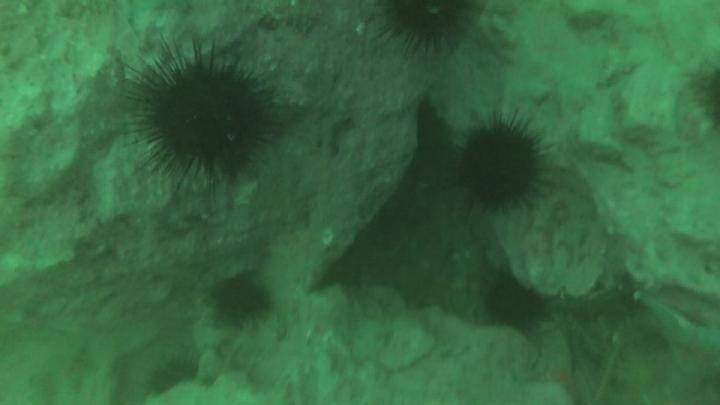echinus: (125, 41, 281, 190), (456, 121, 545, 211), (372, 1, 482, 58), (480, 272, 548, 333), (207, 270, 274, 328), (144, 352, 201, 399)
starfish: (634, 292, 720, 401), (521, 325, 586, 405)
